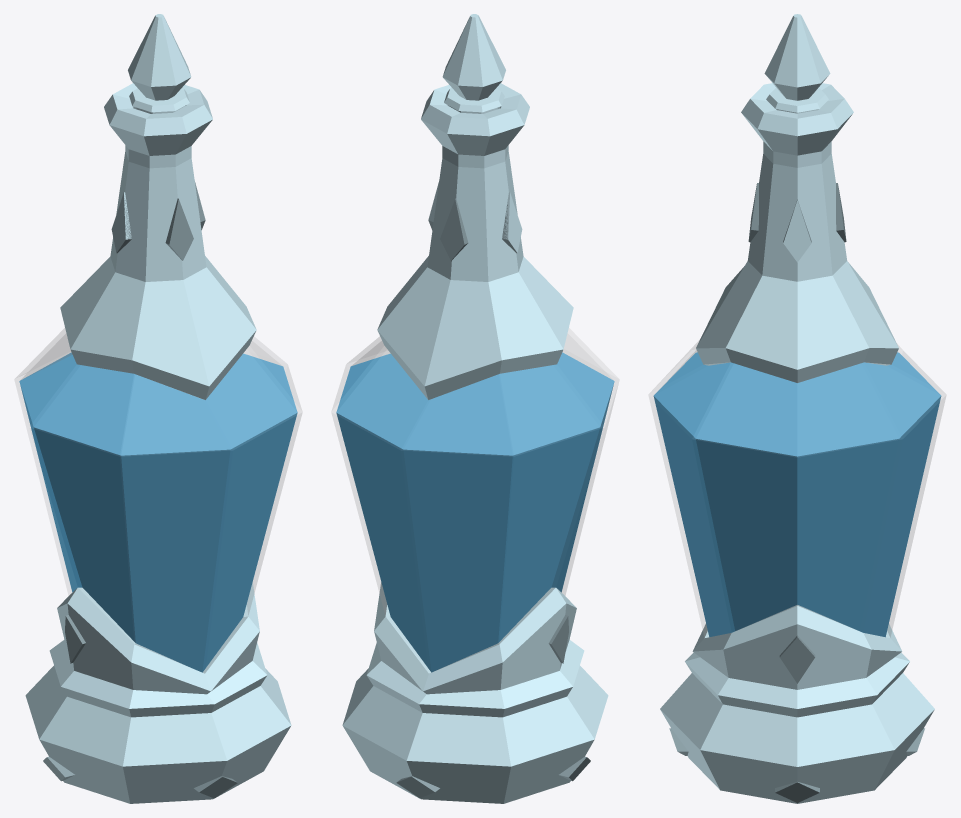
Rendered from Type_03_Blue.fbx.
The picture shows the model from 3 angles, left to right: view 1: azimuth 30°, elevation 25°; view 2: azimuth 150°, elevation 25°; view 3: azimuth 270°, elevation 25°; orthographic projection.
Visible parts, largest first — view 1: Type_03_Bottle, Type_ 03_Cork; view 2: Type_03_Bottle, Type_ 03_Cork; view 3: Type_03_Bottle, Type_ 03_Cork.
Boxes of the visible parts, left/top/right/bottom form: Type_03_Bottle: left=14, top=83, right=302, bottom=803; Type_ 03_Cork: left=128, top=14, right=191, bottom=113; Type_03_Bottle: left=331, top=83, right=619, bottom=803; Type_ 03_Cork: left=442, top=14, right=505, bottom=113; Type_03_Bottle: left=648, top=83, right=946, bottom=803; Type_ 03_Cork: left=764, top=14, right=830, bottom=113.
Size of the model in its own units: 15 by 41.19 by 15.
